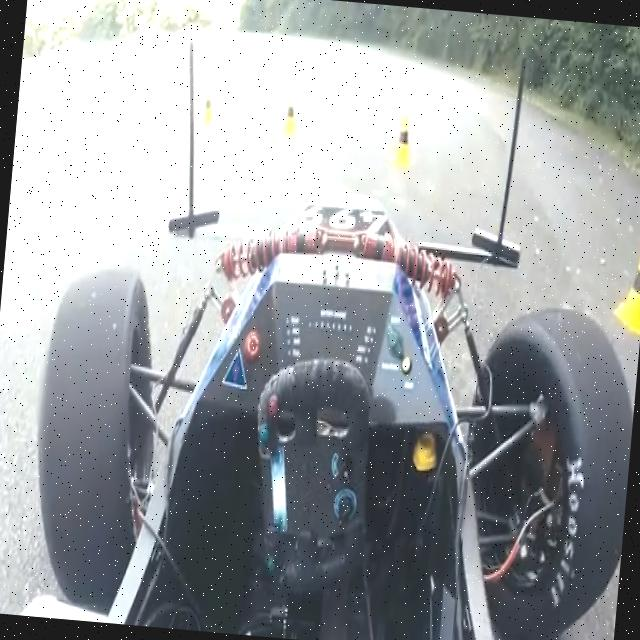yellow_cone: (612, 239, 640, 334), (388, 113, 418, 170)
